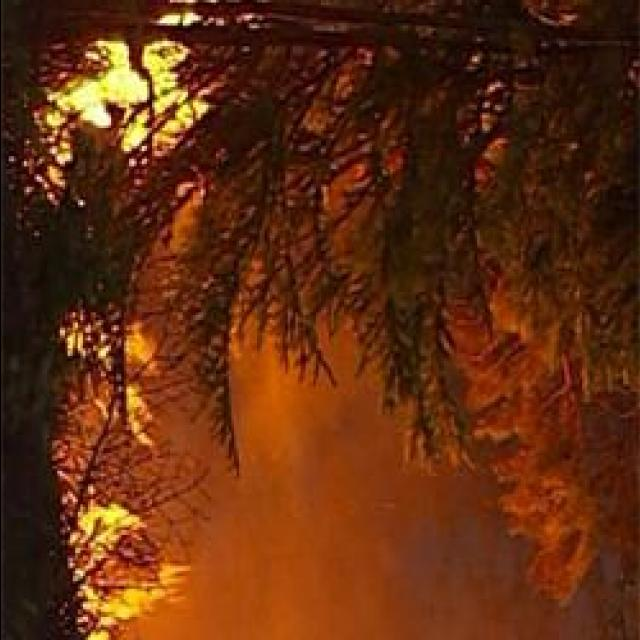fire: (44, 35, 218, 161)
smoke: (228, 348, 312, 458)
